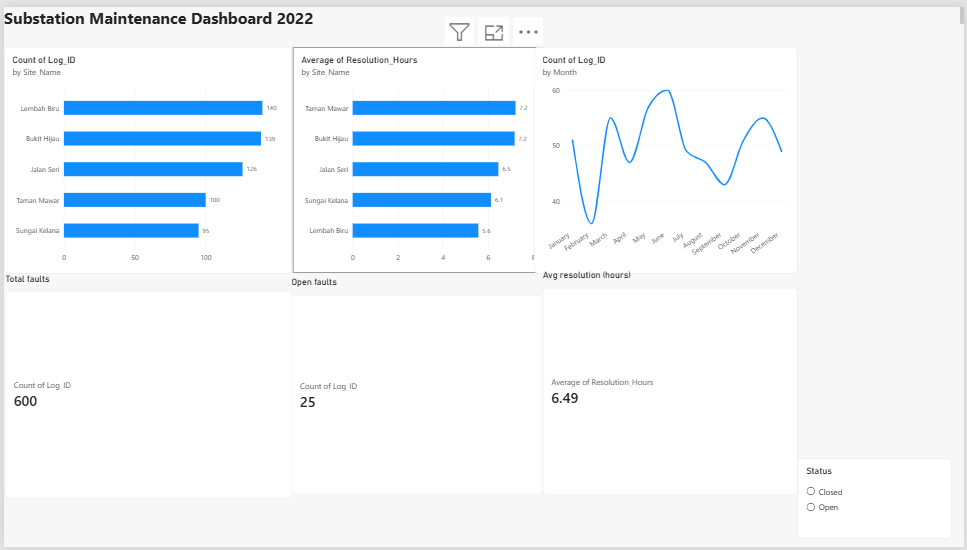

Layout of this report page (visuals, bound fields, positions):
{"tool":"powerbi","page":{"name":"Page 1","canvas":[1920,1080],"ordinal":0},"visuals":[{"type":"clusteredBarChart","fields":{"Category":["maintenance_logs_2022.Site_Name"],"Y":["CountNonNull(maintenance_logs_2022.Log_ID)"]},"box":[0,80,575,452.5],"z":0},{"type":"clusteredBarChart","fields":{"Category":["maintenance_logs_2022.Site_Name"],"Y":["Avg(maintenance_logs_2022.Resolution_Hours)"]},"box":[577.5,80,502.5,452.5],"z":1000},{"type":"lineChart","fields":{"Category":["maintenance_logs_2022.Date_Reported.Variation.Date Hierarchy.Month"],"Y":["CountNonNull(maintenance_logs_2022.Log_ID)"]},"box":[1060,80,527.5,452.5],"z":2000},{"type":"listSlicer","fields":{"Values":["maintenance_logs_2022.Status"]},"box":[1390,860,357.5,160],"z":3000},{"type":"cardVisual","title":"Total faults","fields":{"Data":["CountNonNull(maintenance_logs_2022.Log_ID)"]},"box":[2.5,532.5,575,450],"z":4000},{"type":"cardVisual","title":"Open faults","fields":{"Data":["CountNonNull(maintenance_logs_2022.Log_ID)"]},"box":[575,540,502.5,435],"z":5000},{"type":"cardVisual","title":"Avg resolution (hours)","fields":{"Data":["Avg(maintenance_logs_2022.Resolution_Hours)"]},"box":[1077.5,525,510,450],"z":5001},{"type":"textbox","box":[0,0,1920,37.5],"z":5002}]}

Visuals, with their boxes in screenshot pixels (x1, y1, x2, y2), scaled from the page's 1920x1080 canvas onto the 967x550 screenshot:
clusteredBarChart - maintenance_logs_2022.Site_Name x CountNonNull(maintenance_logs_2022.Log_ID): bbox=(0, 41, 290, 271)
clusteredBarChart - maintenance_logs_2022.Site_Name x Avg(maintenance_logs_2022.Resolution_Hours): bbox=(291, 41, 544, 271)
lineChart - maintenance_logs_2022.Date_Reported.Variation.Date Hierarchy.Month x CountNonNull(maintenance_logs_2022.Log_ID): bbox=(534, 41, 800, 271)
listSlicer - maintenance_logs_2022.Status: bbox=(700, 438, 880, 519)
"Total faults" cardVisual: bbox=(1, 271, 291, 500)
"Open faults" cardVisual: bbox=(290, 275, 543, 497)
"Avg resolution (hours)" cardVisual: bbox=(543, 267, 800, 497)
textbox: bbox=(0, 0, 966, 19)
